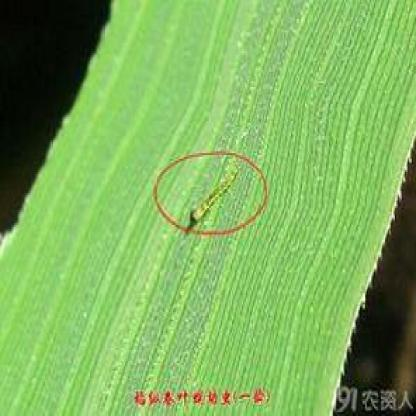leaf-folder: (188, 154, 258, 212)
